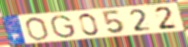0: (78, 13, 100, 37)
2: (153, 6, 178, 31), (129, 8, 153, 32)
5: (100, 9, 126, 35)
G: (50, 14, 77, 39)
O: (23, 16, 50, 42)
